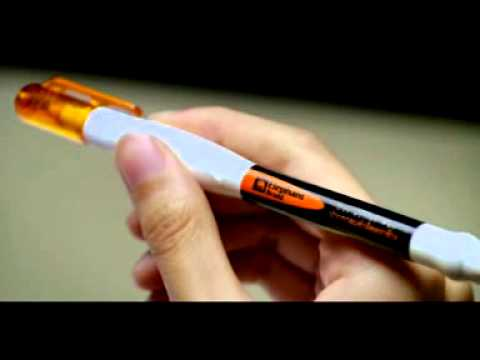Correction_fluid: (10, 73, 480, 285)
